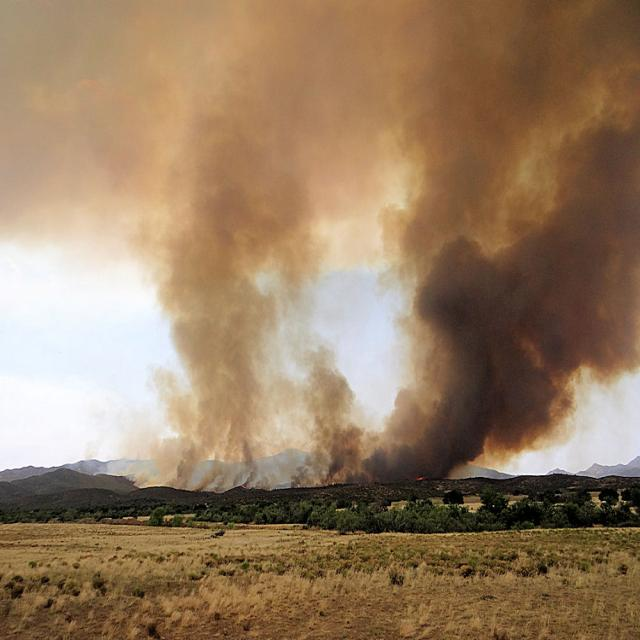Smoke: (6, 0, 640, 472)
